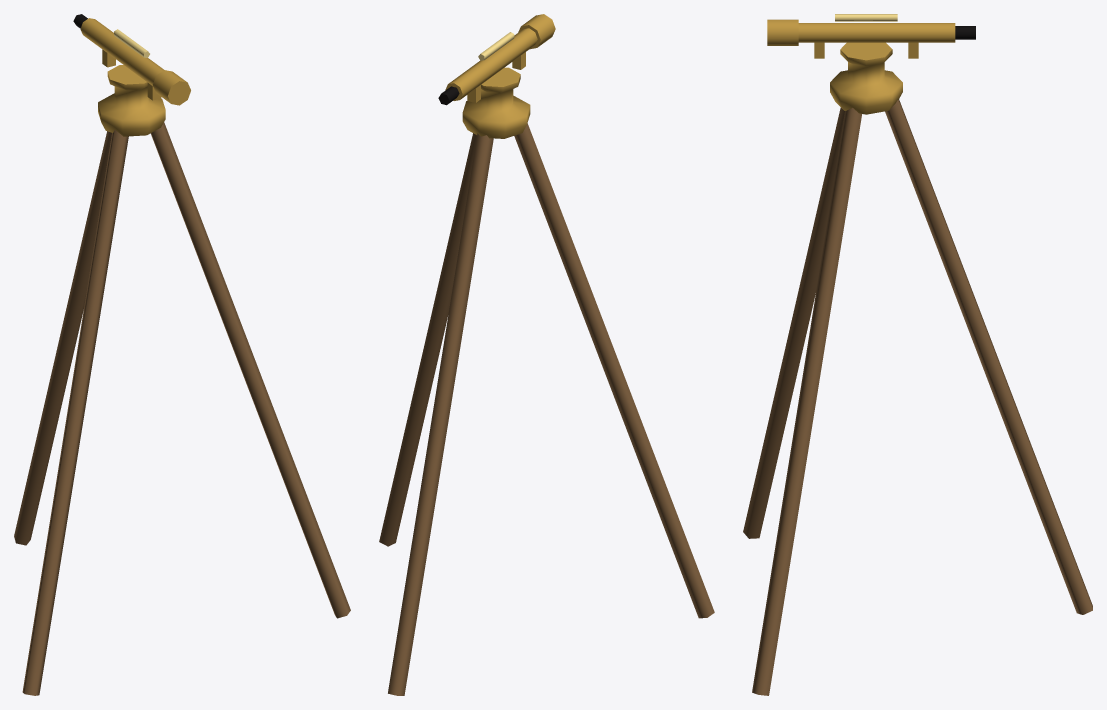
The model's file is surveyor_level.glb.
3 views of the same model, side by side, from view 1: azimuth 30°, elevation 25°; view 2: azimuth 150°, elevation 25°; view 3: azimuth 270°, elevation 25° (orthographic). The views are drawn at different scales.
Visible parts, largest first — view 1: surveyor_level; view 2: surveyor_level; view 3: surveyor_level.
Part boxes in pixels (left/top/right/bottom): surveyor_level: left=14, top=14, right=350, bottom=695; surveyor_level: left=379, top=14, right=714, bottom=695; surveyor_level: left=743, top=14, right=1092, bottom=695.
Bounding box in the file's own units: 0.7601 × 1.27 × 0.6699.
